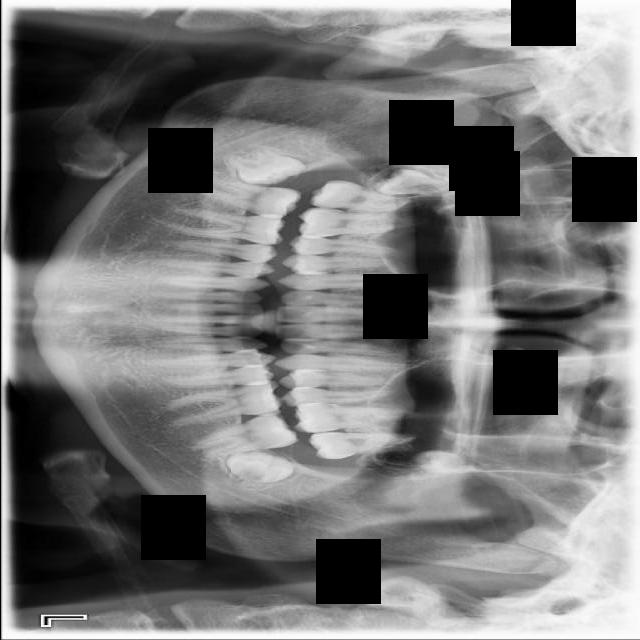3M ESPE Implant: (374, 168, 449, 196)
52: (281, 336, 323, 356), (279, 290, 325, 306)
73: (44, 599, 57, 614)
BioHorizons Implant: (307, 431, 414, 460)
BioLife Implant: (411, 450, 468, 476)
Biomet 3i Implant: (224, 449, 296, 491)
Blue Sky Bio Implant: (184, 408, 299, 463)
Caries: (306, 176, 424, 218)
Implant: (192, 170, 301, 224)
Keystone Dental Implant: (227, 146, 308, 187)
